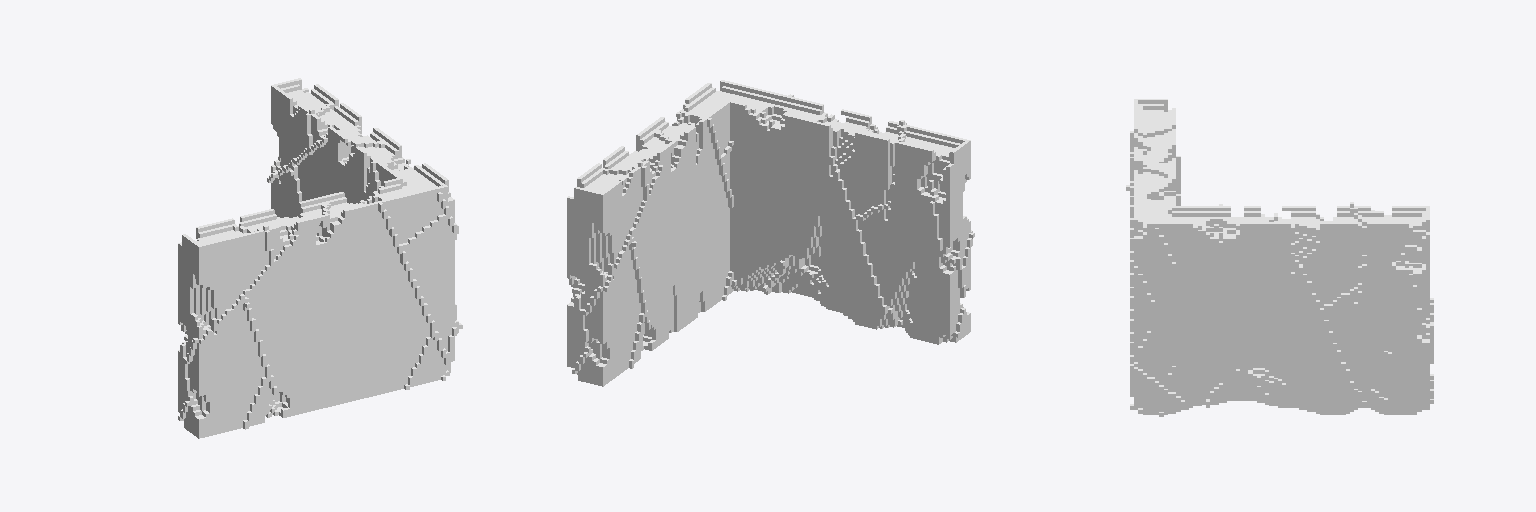
Rendered from corner_wall.obj.
The picture shows the model from 3 angles: view 1: azimuth 30°, elevation 25°; view 2: azimuth 150°, elevation 25°; view 3: azimuth 270°, elevation 25°; orthographic projection.
Visible parts, largest first — view 1: object 1; view 2: object 1; view 3: object 1.
Part boxes in pixels (x1,y1,x2,y2): object 1: (178, 78, 462, 438); object 1: (567, 80, 974, 386); object 1: (1126, 99, 1433, 416).
Size of the model in its own units: 7.3 by 5.1 by 7.3.